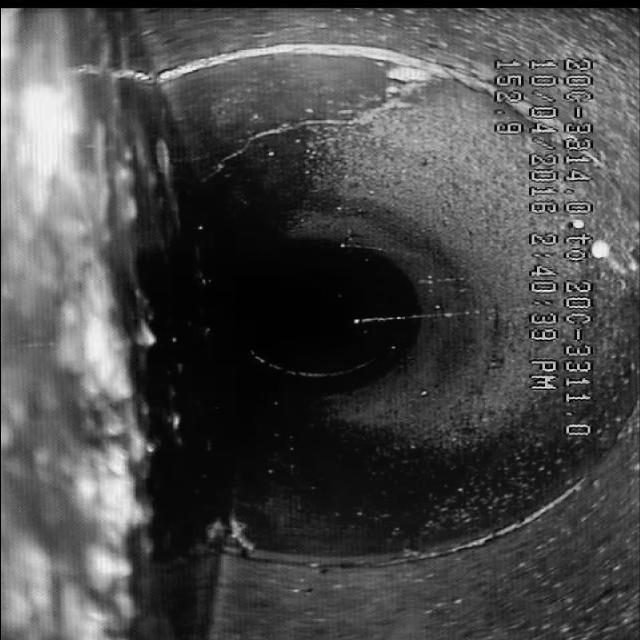Crack: (206, 87, 445, 161)
